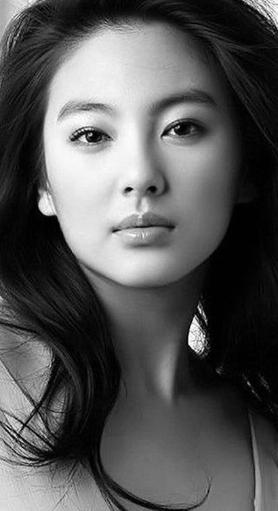left_eye: (161, 119, 210, 150)
left_lip_corner: (167, 219, 182, 239)
right_eye: (67, 127, 116, 156)
right_lip_corner: (109, 222, 123, 245)
